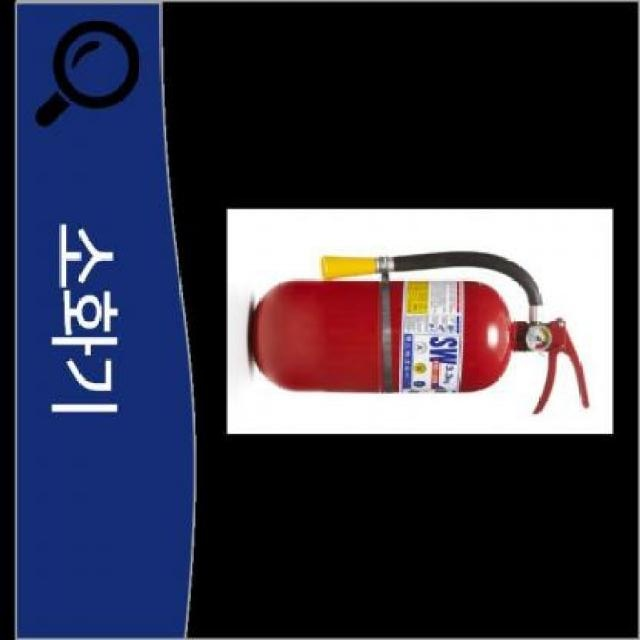fire extinguisher: (250, 251, 590, 415)
